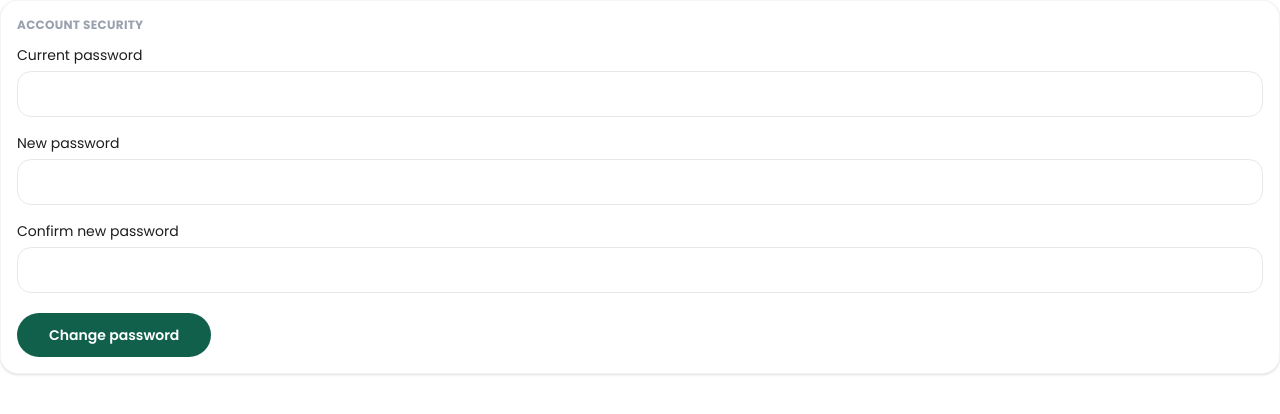
it: ChangePasswordForm › rejects a weak new password
Type "OldPass1!" into the password field below "Current password" at coordinates (640, 94), box [17,71,1263,117]
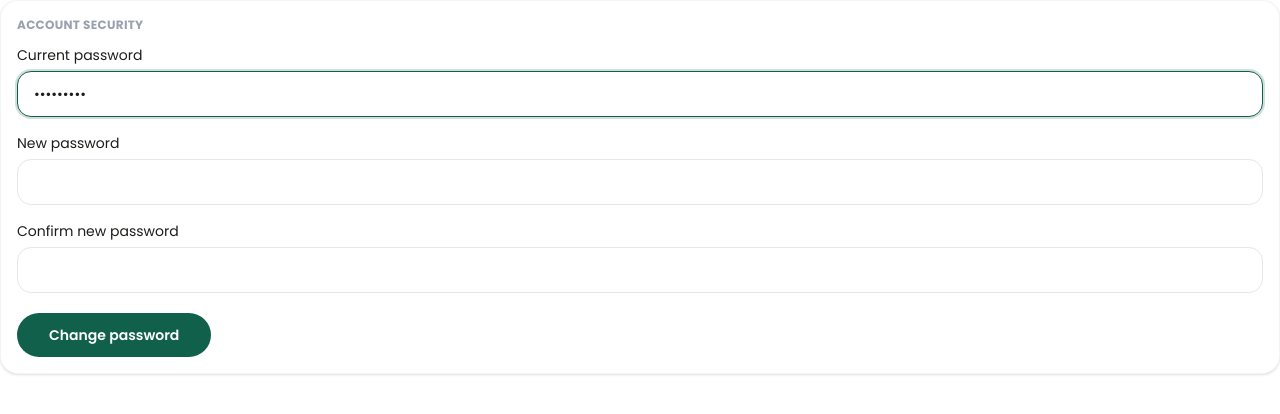
Type "weakpass" into the 2nd password field at coordinates (640, 182), box [17,159,1263,205]
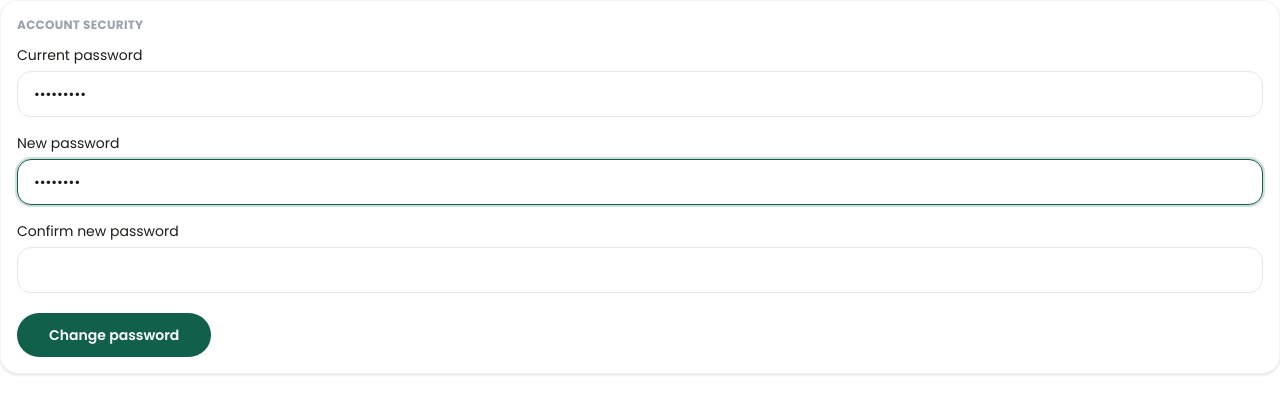
Type "weakpass" into the password field below "Confirm new password" at coordinates (640, 270), box [17,247,1263,293]
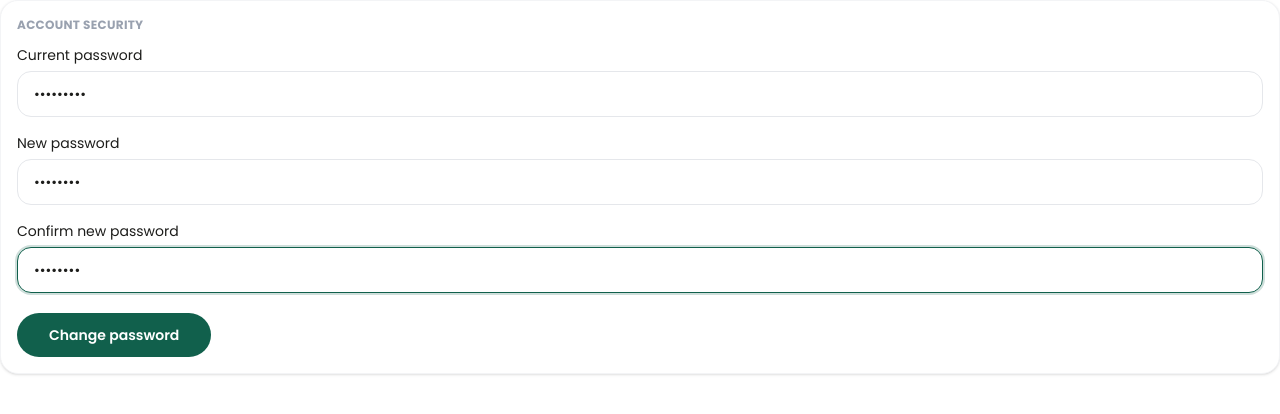
Click the button "Change password" at coordinates (114, 335), box [17,313,211,357]
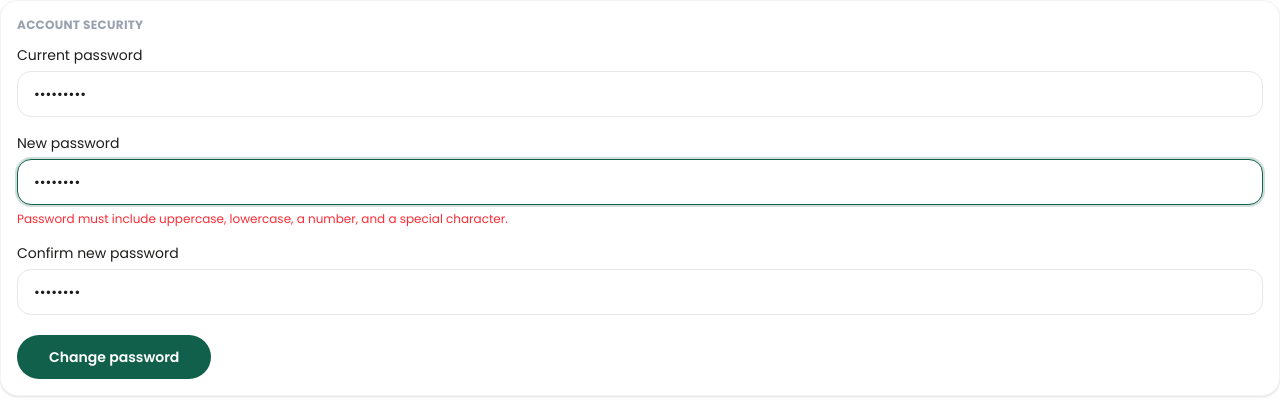
Now the text "Password must include uppercase, lowercase, a number, and a special character." is shown, box [17,210,508,227]
